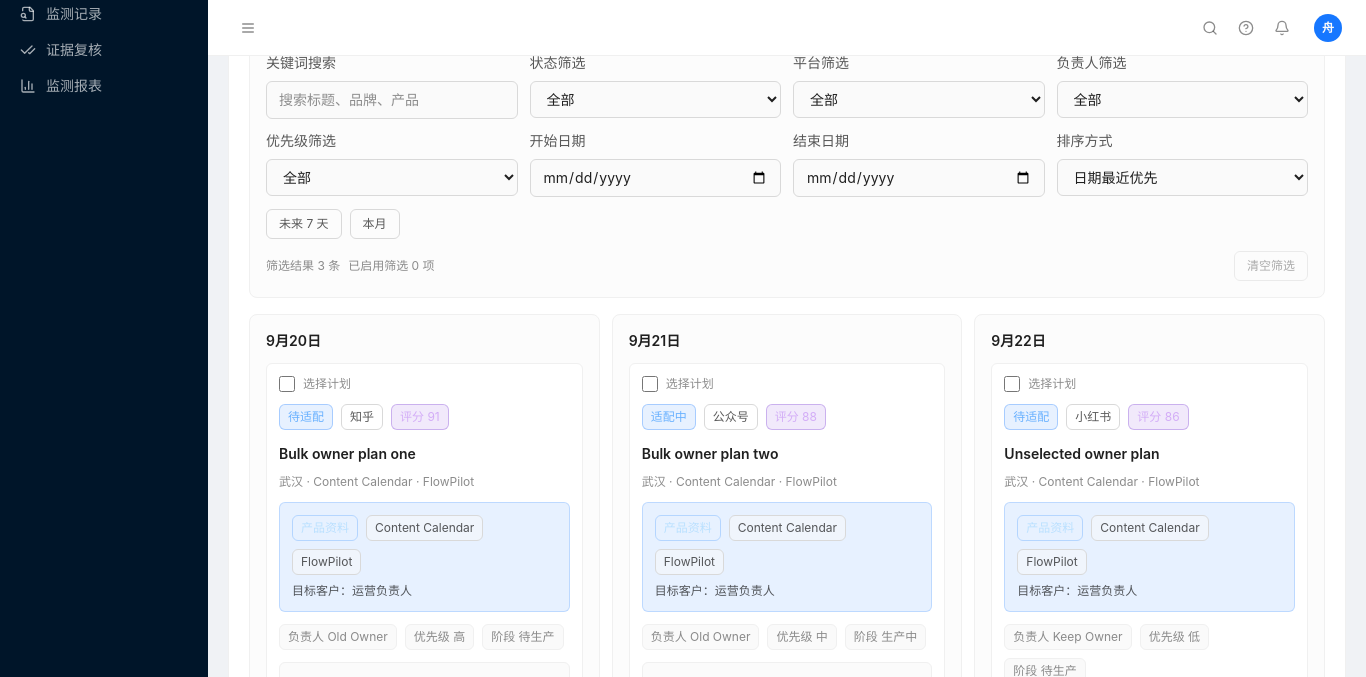
Test: P28 内容日历独立页面 › bulk updates the selected content plan owner
(page scrolled)
Click the checkbox named "选择计划 Bulk owner plan one". click: [287, 384]
box: [279,376,295,392]
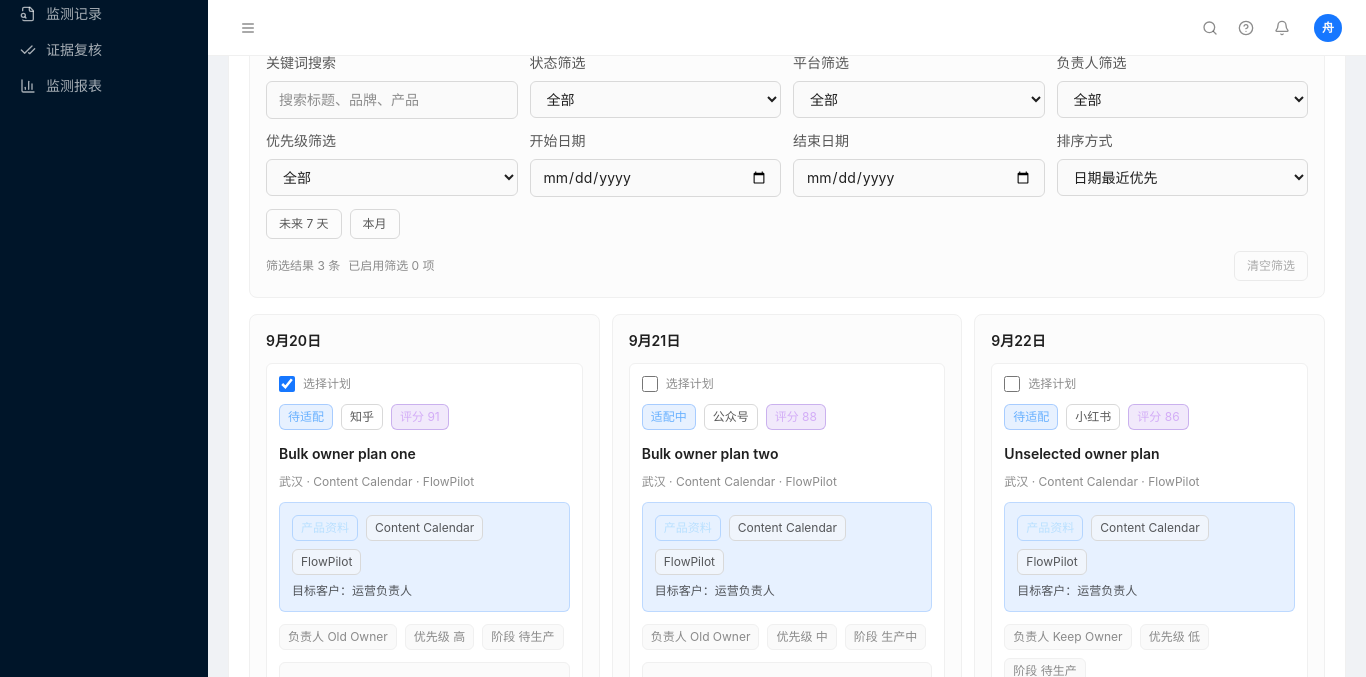
Click the checkbox named "选择计划 Bulk owner plan two". click: [650, 384]
box: [642,376,658,392]
(page scrolled)
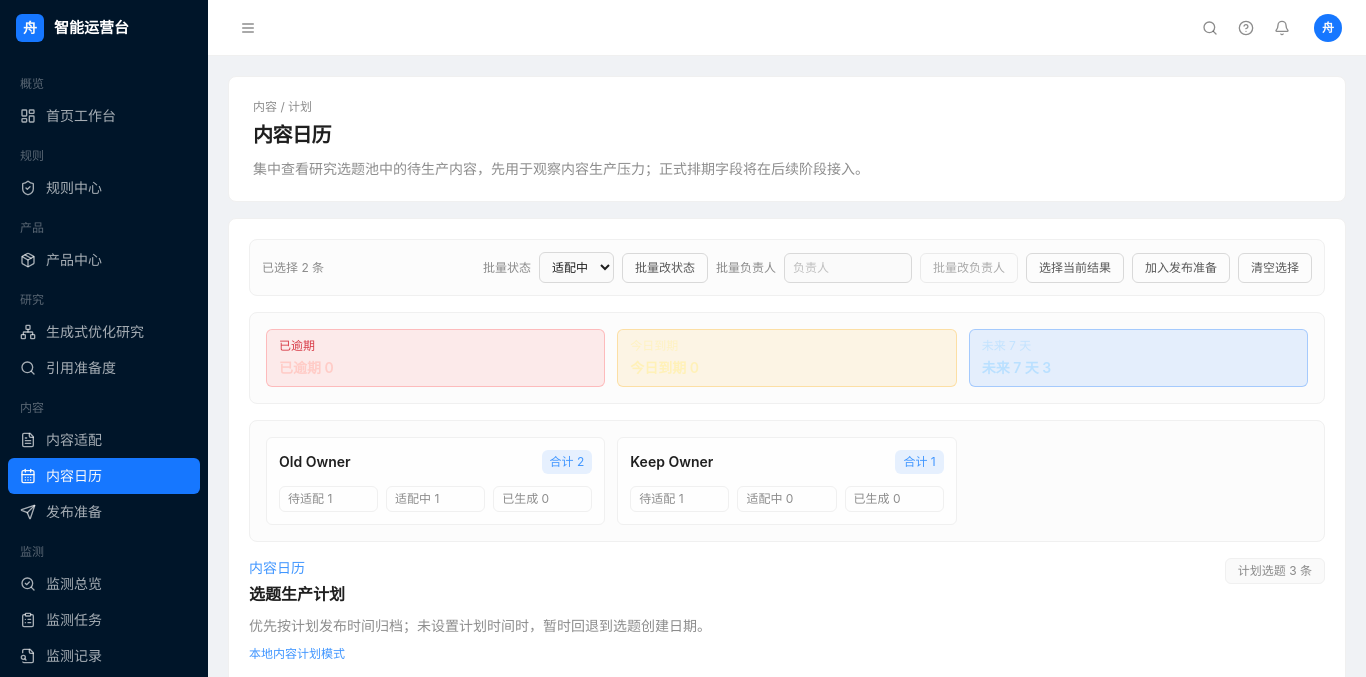
Type "New Owner" into the field labelled "批量负责人". click: [848, 268]
box: [784,253,912,283]
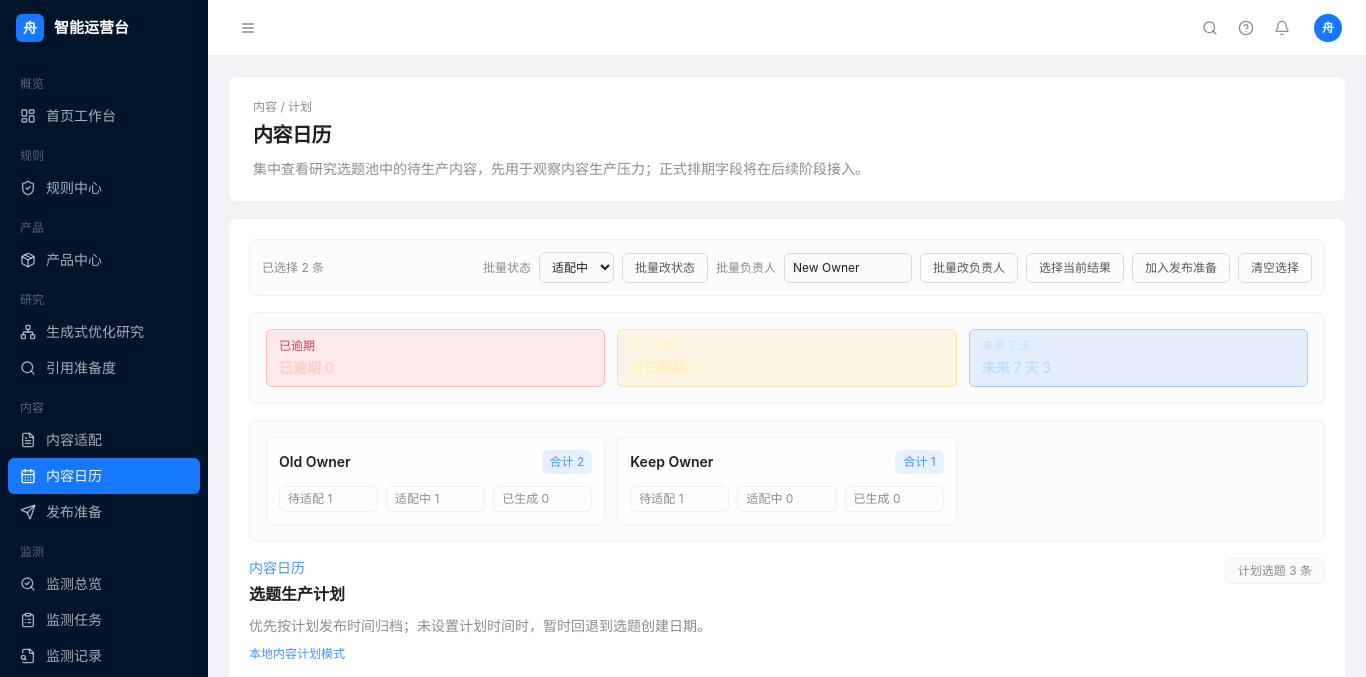
Click the button "批量改负责人". click: [969, 268]
box: [920,253,1018,283]
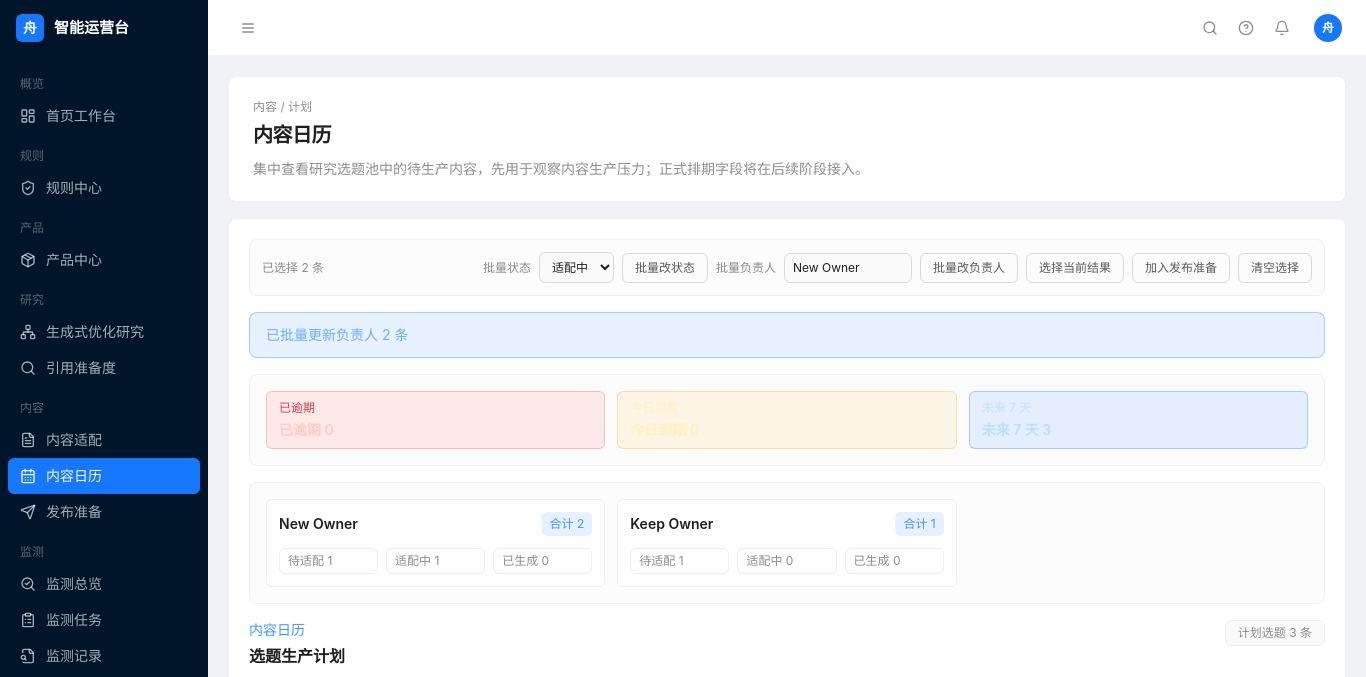
Expected: the text "Keep Owner" is shown, [630,514,713,534]
Result: the message reads "已批量更新负责人 2 条" at [266,326,408,343]
Result: the text "New Owner" is shown at [279,514,358,534]
